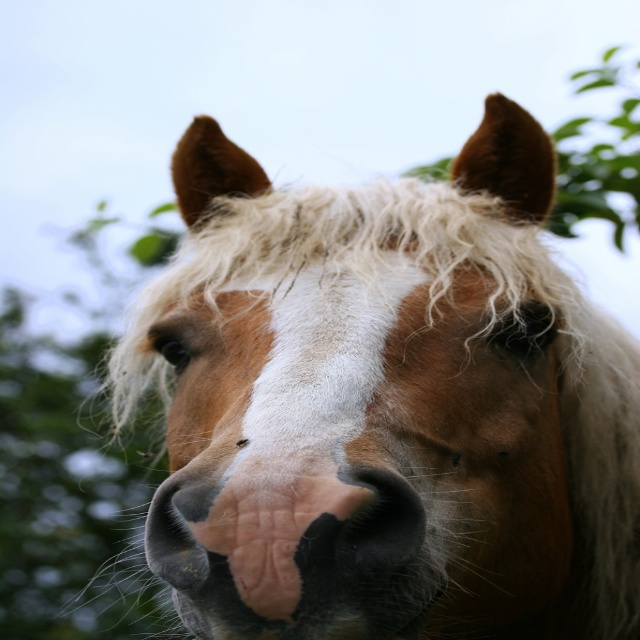Horse: (52, 89, 639, 640)
